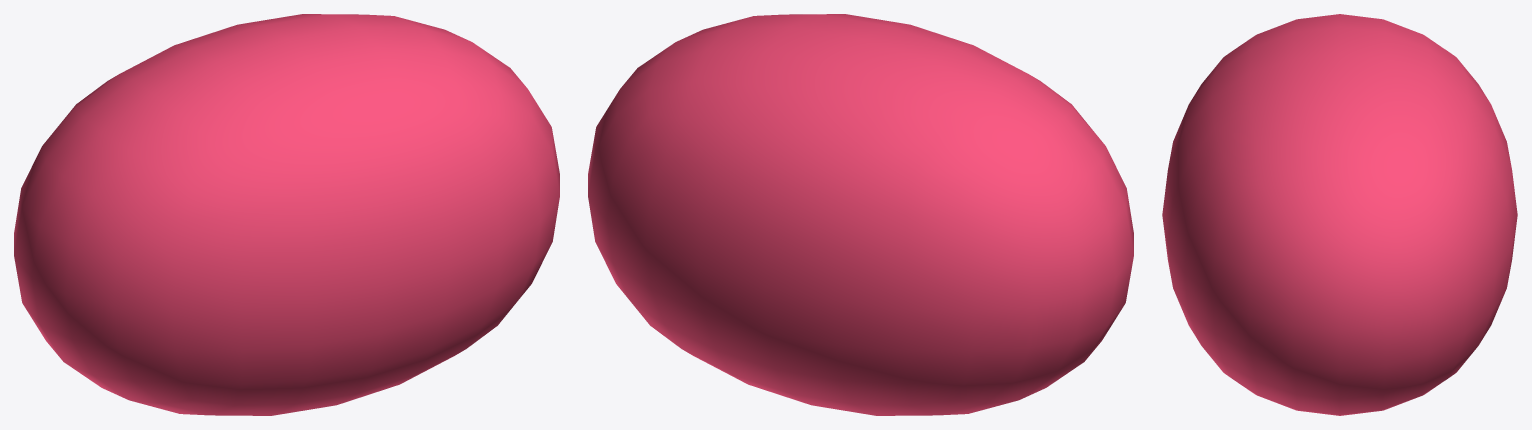
File: Jellybean_01.fbx
The picture shows the model from 3 angles, left to right: view 1: azimuth 30°, elevation 25°; view 2: azimuth 150°, elevation 25°; view 3: azimuth 270°, elevation 25°; orthographic projection. The views are drawn at different scales.
Parts seen in each view (by area): view 1: Jellybean_01_LOD0; view 2: Jellybean_01_LOD0; view 3: Jellybean_01_LOD0.
Boxes of the visible parts, left/top/right/bottom form: Jellybean_01_LOD0: left=14, top=14, right=559, bottom=415; Jellybean_01_LOD0: left=588, top=14, right=1133, bottom=415; Jellybean_01_LOD0: left=1162, top=14, right=1517, bottom=415.
Size of what is drawn, in the model's own units: 313 by 206 by 206.
